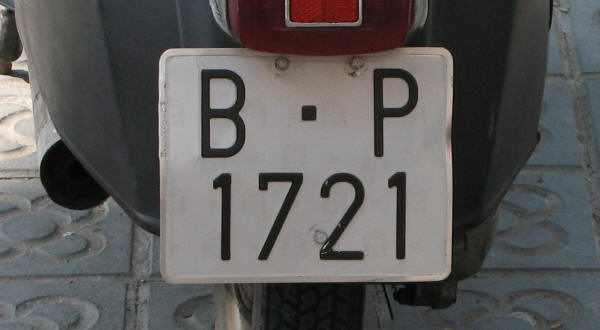license_plate: (159, 48, 453, 282)
